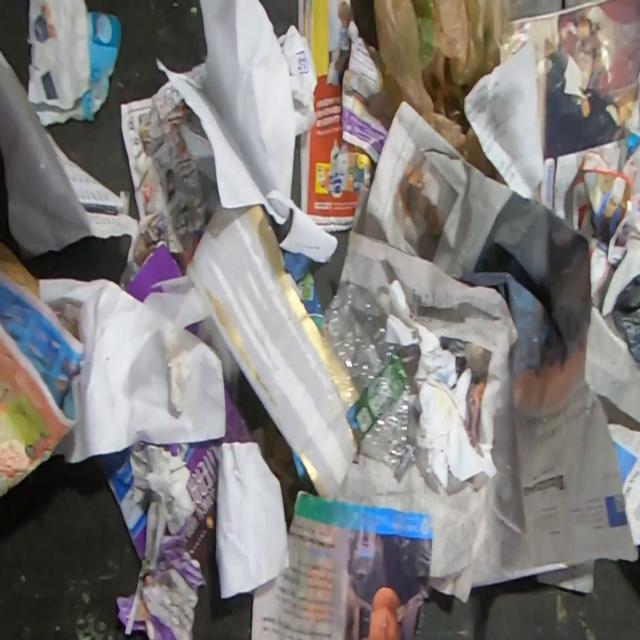cardboard: (152, 368, 256, 568), (92, 441, 157, 564), (122, 241, 186, 305)
rigid_plastic: (321, 284, 418, 482)
soft_plastic: (372, 0, 528, 188)
